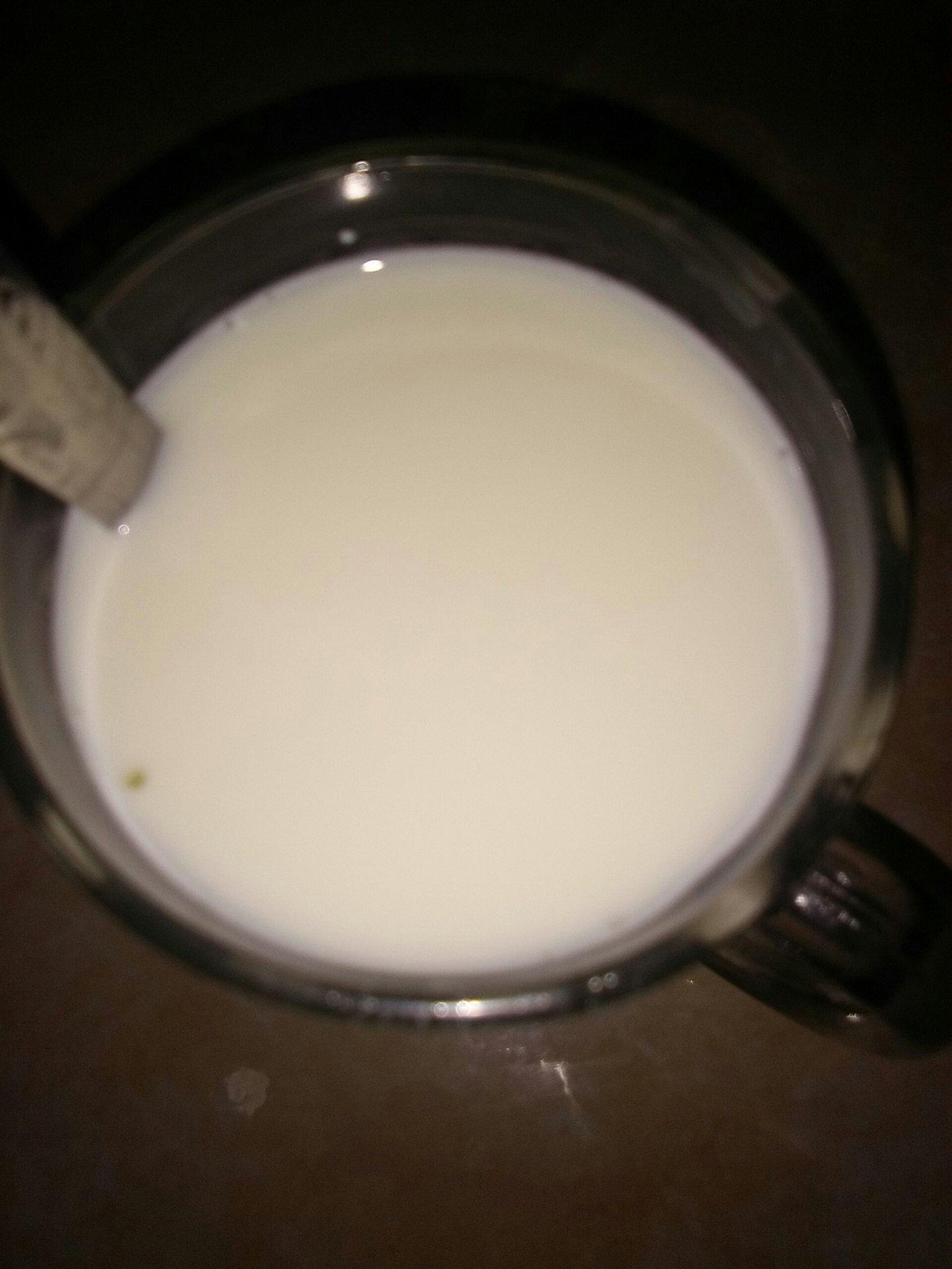produk_susu: (146, 249, 703, 955)
